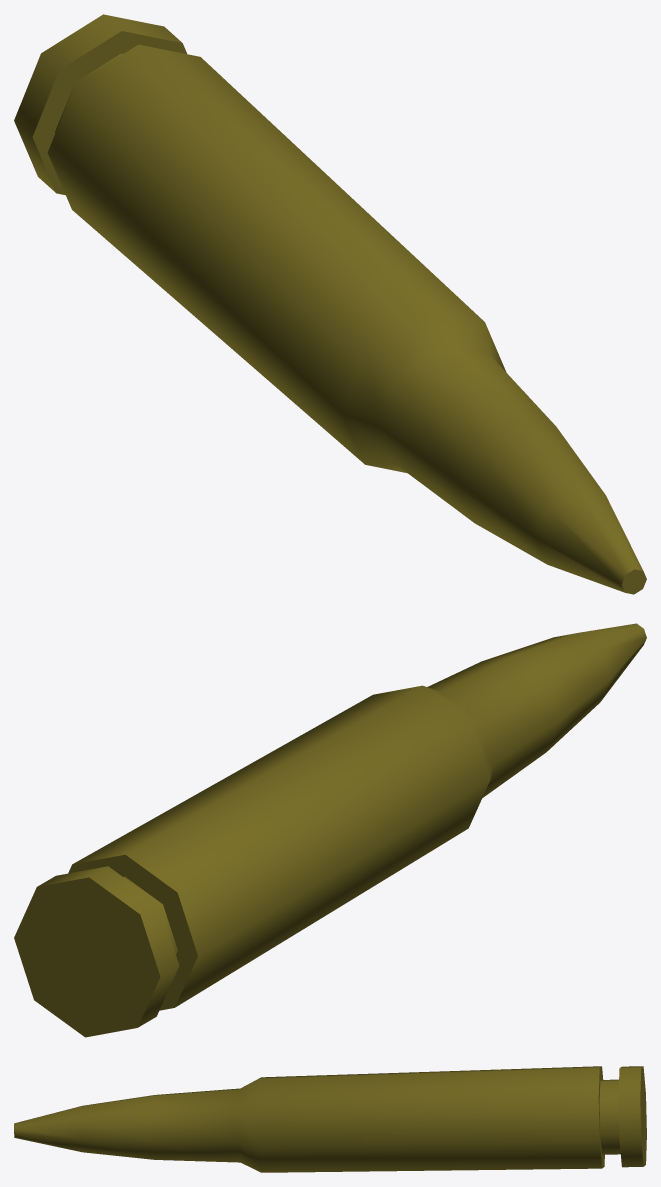
File: bullet.fbx
3 views of the same model, one above another, from view 1: azimuth 30°, elevation 25°; view 2: azimuth 150°, elevation 25°; view 3: azimuth 270°, elevation 25° (orthographic). The views are drawn at different scales.
Parts seen in each view (by area): view 1: Bullet.001; view 2: Bullet.001; view 3: Bullet.001.
Boxes of the visible parts, x1,y1,x2,y2 form: Bullet.001: (14,14,646,594); Bullet.001: (14,623,646,1037); Bullet.001: (14,1066,646,1172).
Bounding box in the file's own units: 1.24 × 1.24 × 6.47.
